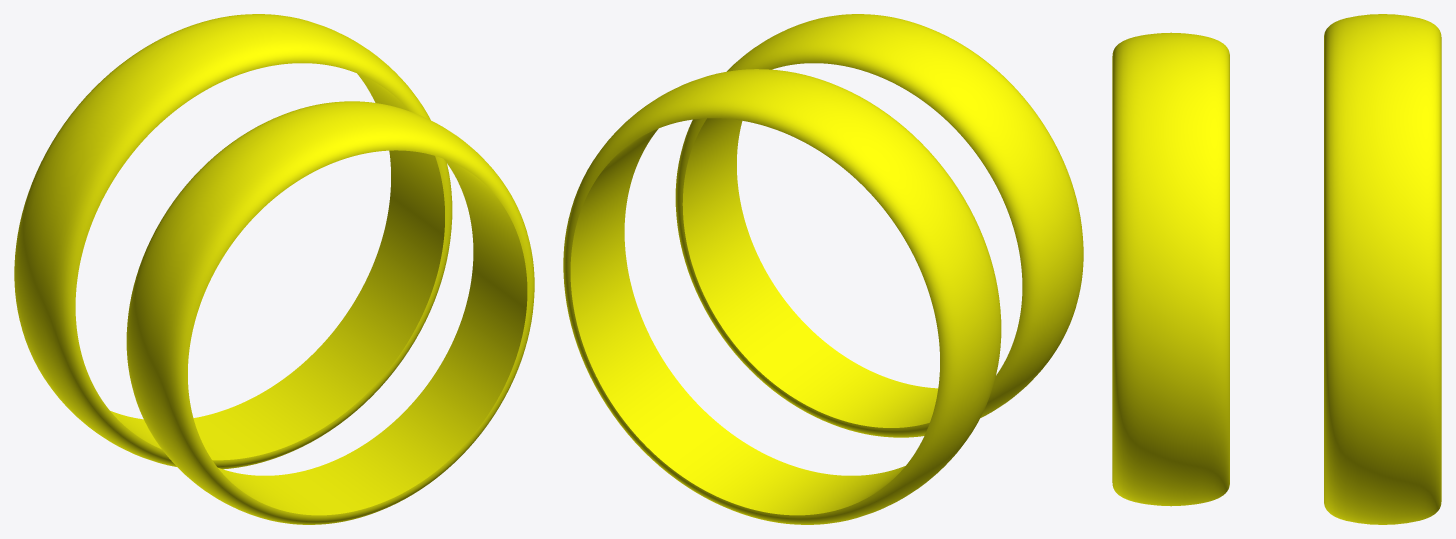
The picture shows the model from 3 angles, left to right: view 1: azimuth 30°, elevation 25°; view 2: azimuth 150°, elevation 25°; view 3: azimuth 270°, elevation 25°; orthographic projection. The views are drawn at different scales.
Visible parts, largest first — view 1: 5mm.3dm; view 2: 5mm.3dm; view 3: 5mm.3dm.
Part boxes in pixels (<box>): 5mm.3dm: <box>14,14,534,524</box>; 5mm.3dm: <box>563,14,1083,524</box>; 5mm.3dm: <box>1112,14,1441,524</box>.
Bounding box in the file's own units: 2.57 × 2.57 × 1.66.
